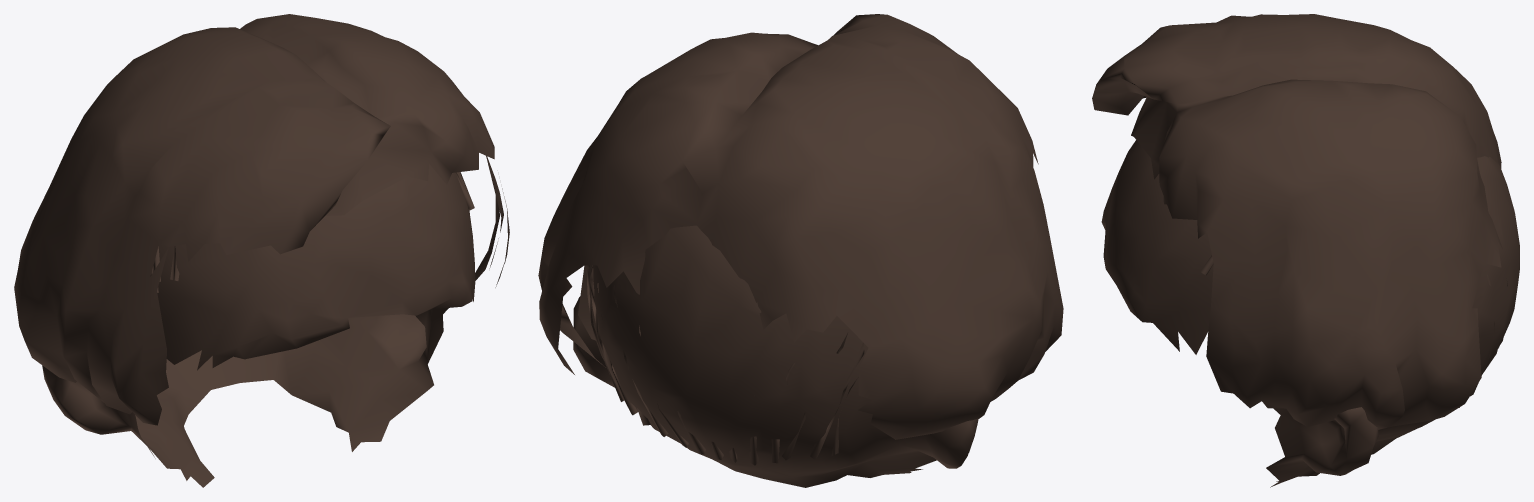
The model's file is bob.glb.
3 views of the same model, side by side, from view 1: azimuth 30°, elevation 25°; view 2: azimuth 150°, elevation 25°; view 3: azimuth 270°, elevation 25° (orthographic).
Parts seen in each view (by area): view 1: Hair, HairScalp, HairPulledRootStrands; view 2: Hair, HairScalp, HairPulledRootStrands; view 3: Hair, HairScalp.
Part boxes in pixels (x1=…): Hair: x1=14, y1=14, x2=509, y2=425; HairScalp: x1=42, y1=164, x2=475, y2=487; HairPulledRootStrands: x1=150, y1=172, x2=474, y2=292; Hair: x1=538, y1=14, x2=1063, y2=439; HairScalp: x1=573, y1=225, x2=978, y2=487; HairPulledRootStrands: x1=586, y1=265, x2=864, y2=465; Hair: x1=1092, y1=14, x2=1502, y2=429; HairScalp: x1=1101, y1=140, x2=1519, y2=487.
Size of the model in its own units: 0.5204 by 0.4485 by 0.429.
